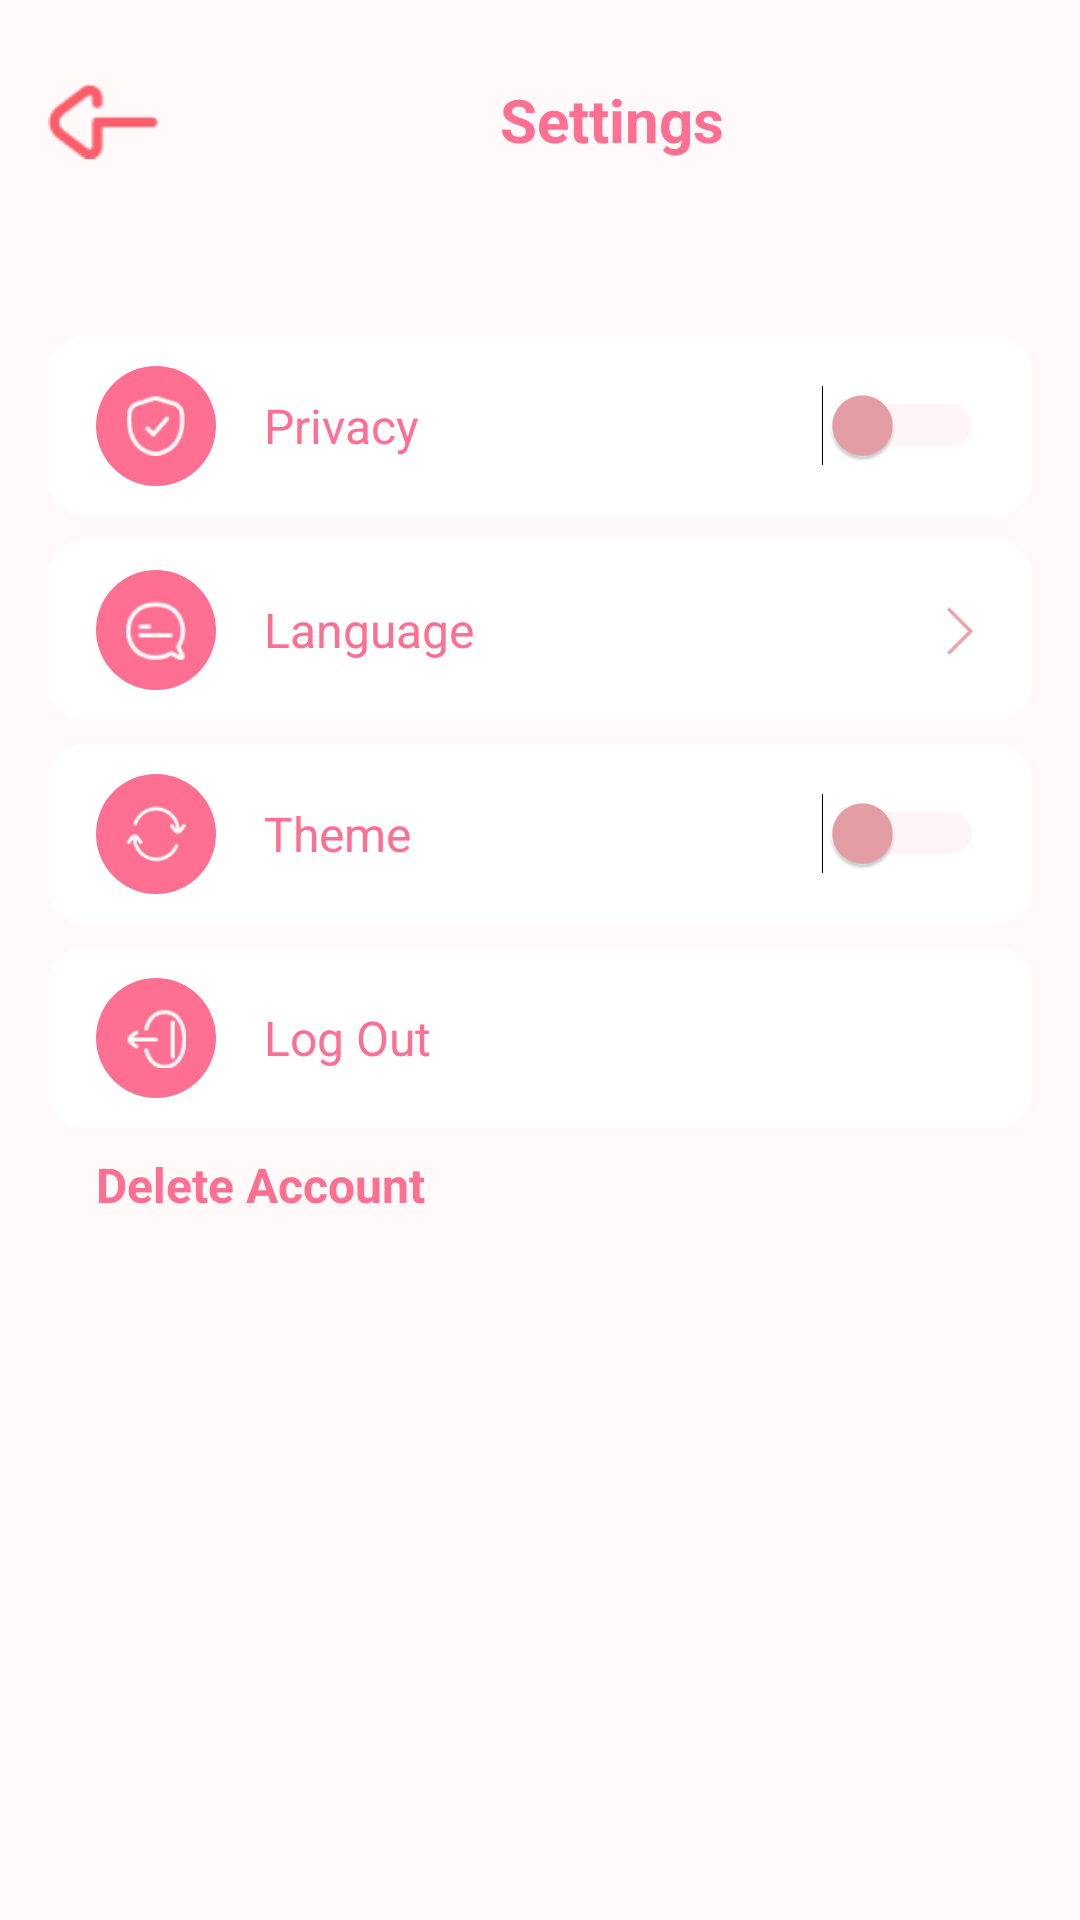

Screen size 1080x1920. Icon name, then its center in pixels as [x,y]:
Back button: [103,122]
chevron right: [960,630]
private acc: [156,426]
